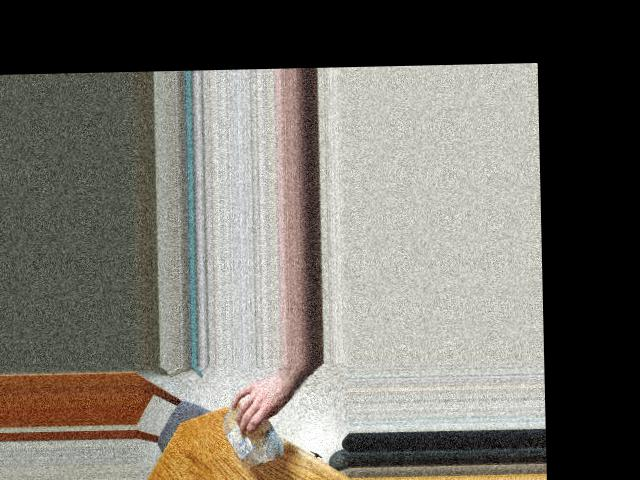cheese: (225, 404, 266, 462)
